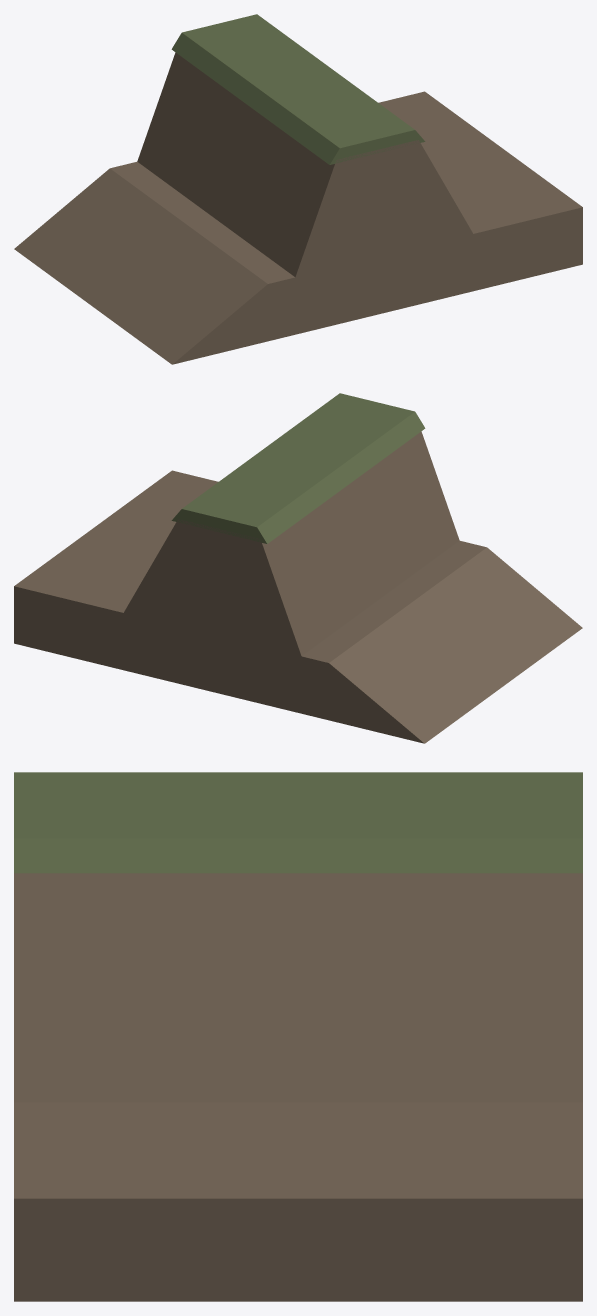
The model's file is bree_dike.glb.
3 renders of one model, top to bottom at view 1: azimuth 30°, elevation 25°; view 2: azimuth 150°, elevation 25°; view 3: azimuth 270°, elevation 25°, orthographic. The views are drawn at different scales.
Parts seen in each view (by area): view 1: bree_dike; view 2: bree_dike; view 3: bree_dike.
Part boxes in pixels (x1,y1,x2,y2): bree_dike: [14, 14, 582, 364]; bree_dike: [14, 393, 582, 743]; bree_dike: [14, 772, 582, 1301].
Size of what is drawn, in the model's own units: 6 by 2.45 by 4.
